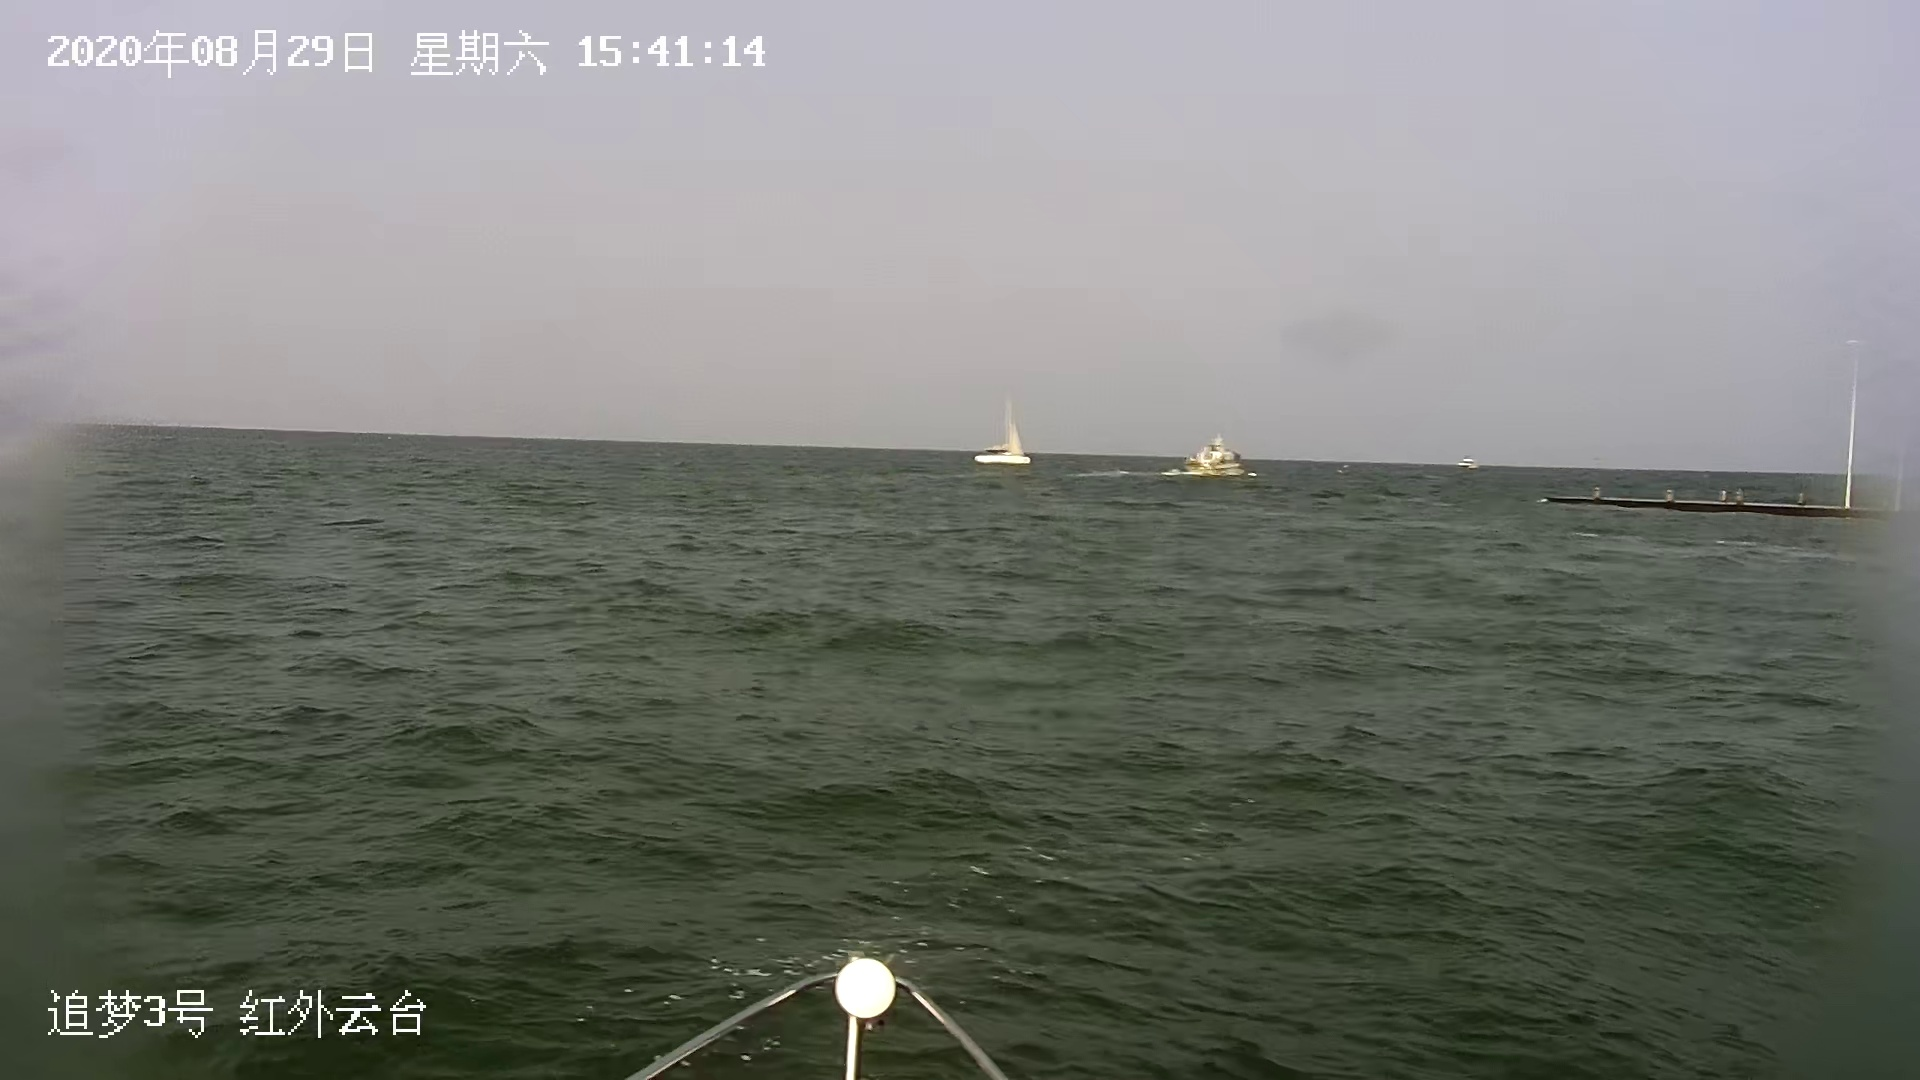barrier: (1162, 431, 1255, 485), (975, 398, 1034, 469), (1455, 455, 1482, 472)
coast: (1539, 328, 1920, 526)
